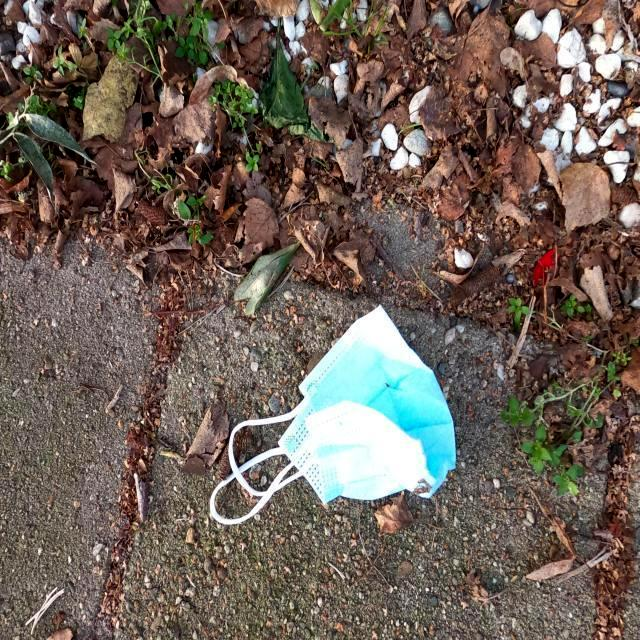Mask: (204, 305, 458, 537)
